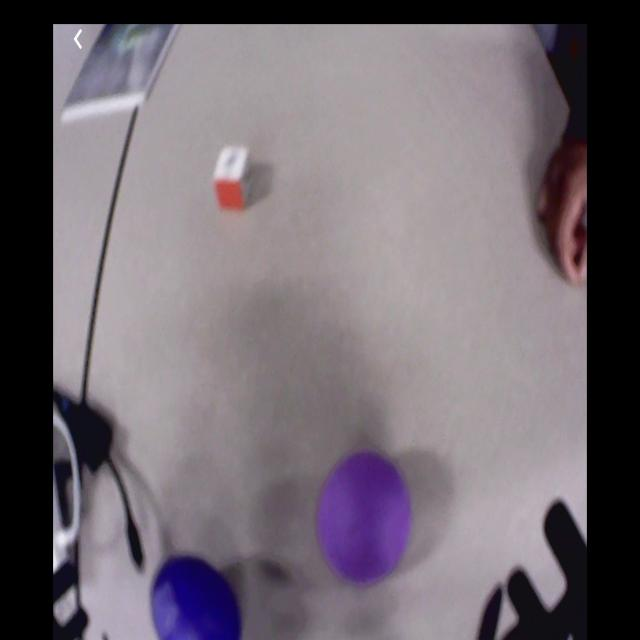ball: (322, 448, 411, 583), (149, 550, 244, 640)
